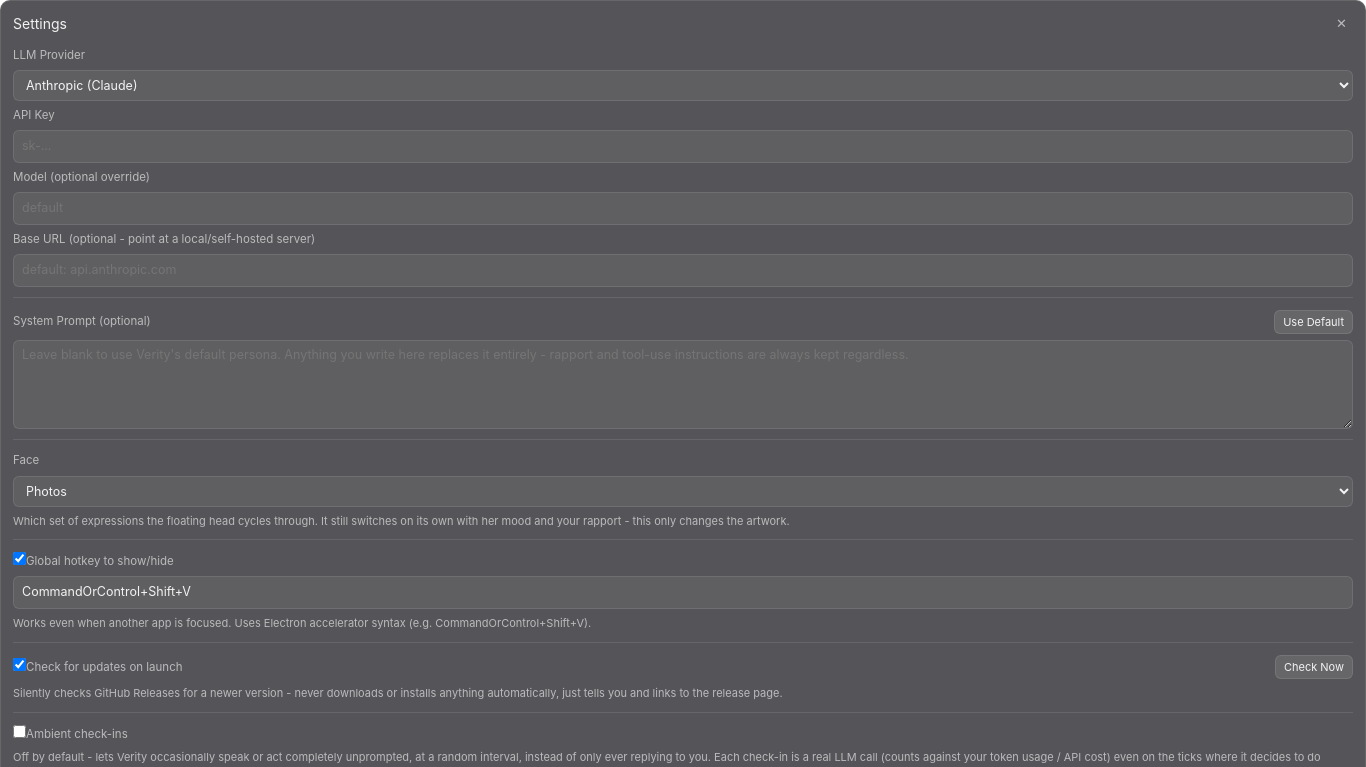
it: SettingsPanel › provider section › hides the API Key field and adjusts placeholders when switching to ollama
This screenshot has width=1366, height=767.
Check: the heading "Settings" is shown, box [13,13,67,34]
Select "Ollama (local)" in the 1st dropdown: (683,85) [13,70,1353,101]
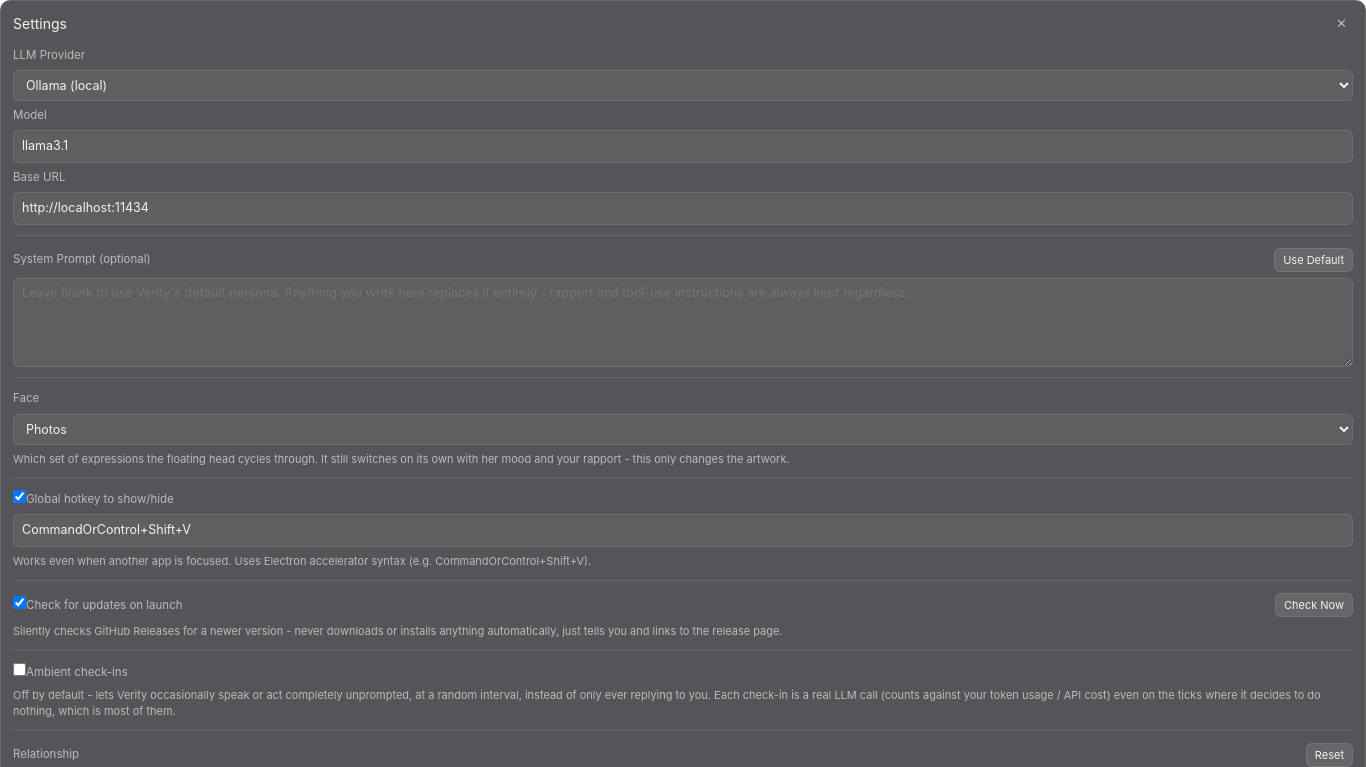
Check: the password field with placeholder "sk-..." is gone
Check: the 1st field with placeholder "llama3.1" is shown, box [13,130,1353,163]
Check: the 2nd field with placeholder "http://localhost:11434" is shown, box [13,192,1353,225]
